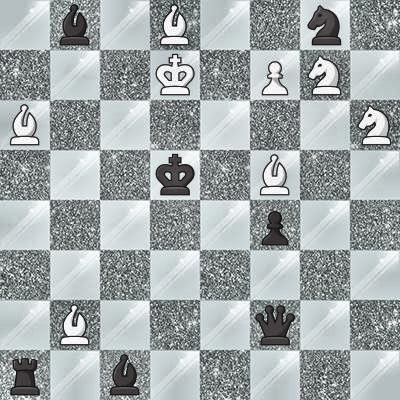black-bishop: (50, 0, 100, 50), (100, 350, 150, 400)
black-king: (150, 150, 200, 200)
black-knight: (300, 0, 350, 50)
black-pawn: (250, 200, 300, 250)
black-queen: (250, 300, 300, 350)
black-rook: (0, 350, 50, 400)
white-bishop: (150, 0, 200, 50), (0, 100, 50, 150), (250, 150, 300, 200), (50, 300, 100, 350)
white-king: (150, 50, 200, 100)
white-knight: (300, 50, 350, 100), (350, 100, 400, 150)
white-pawn: (250, 50, 300, 100)
